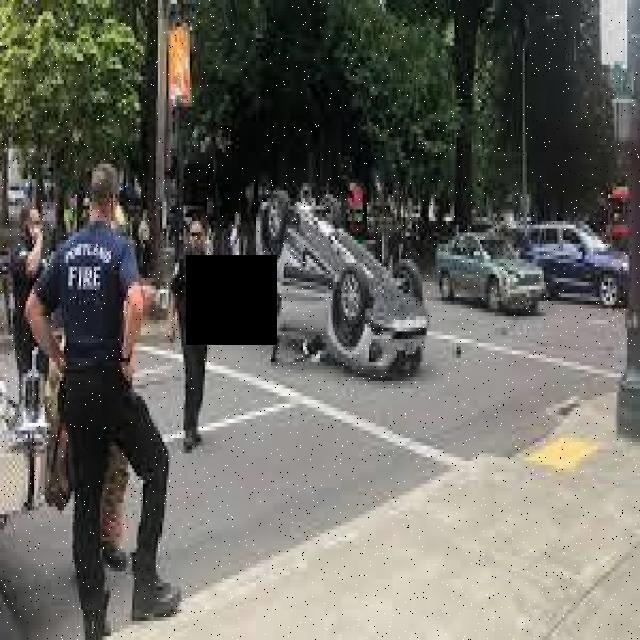accident: (254, 174, 431, 379)
